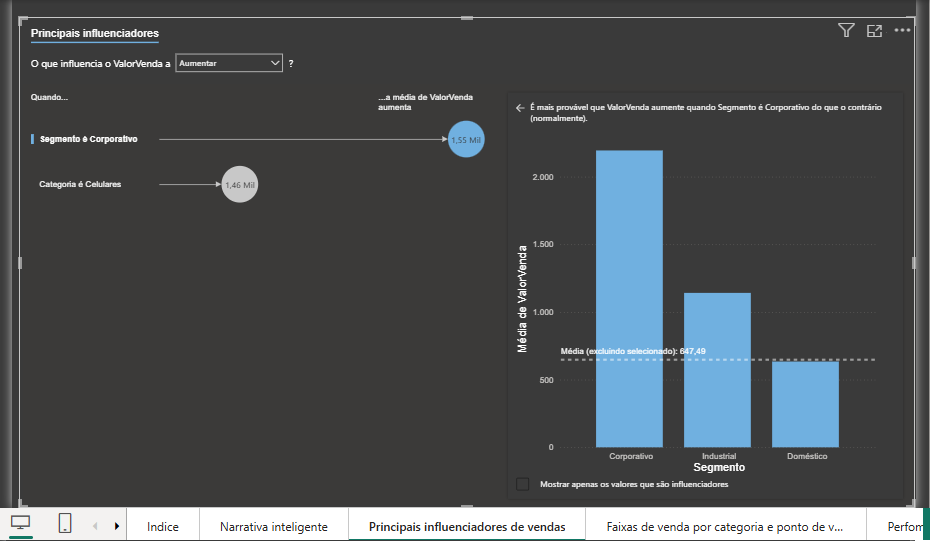

This screenshot's page, from the dashboard's own definition file:
{"tool":"powerbi","page":{"name":"Principais influenciadores de vendas","canvas":[1280,720],"ordinal":2},"visuals":[{"type":"keyDriversVisual","fields":{"Target":["Vendas.ValorVenda"],"ExplainBy":["Vendas.Segmento","Vendas.Categoria"]},"box":[9.9,24.1,1269.9,695.9],"z":0}]}

Visuals, with their boxes on the page's 1280x720 design canvas (x1, y1, x2, y2). These are canvas units, not pixel positions in the 930x541 screenshot, which may show the page scaled, cropped or inside an application window:
keyDriversVisual - Vendas.ValorVenda x Vendas.Segmento: {"left": 10, "top": 24, "right": 1280, "bottom": 720}
